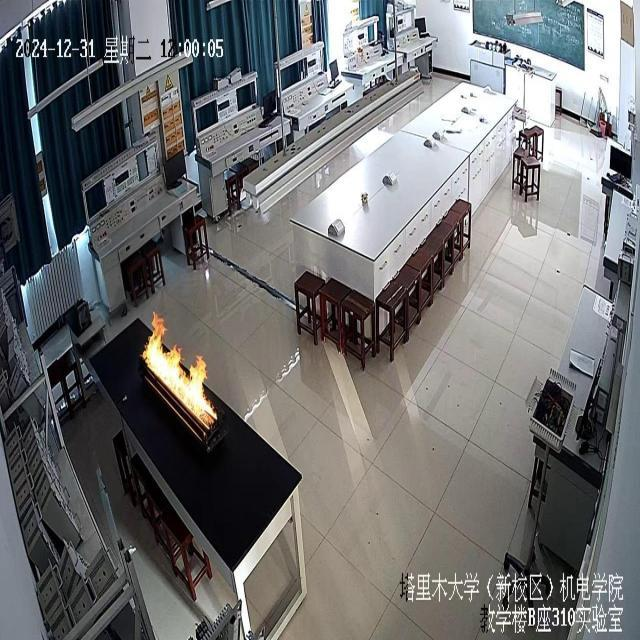smoke: (144, 310, 218, 432)
